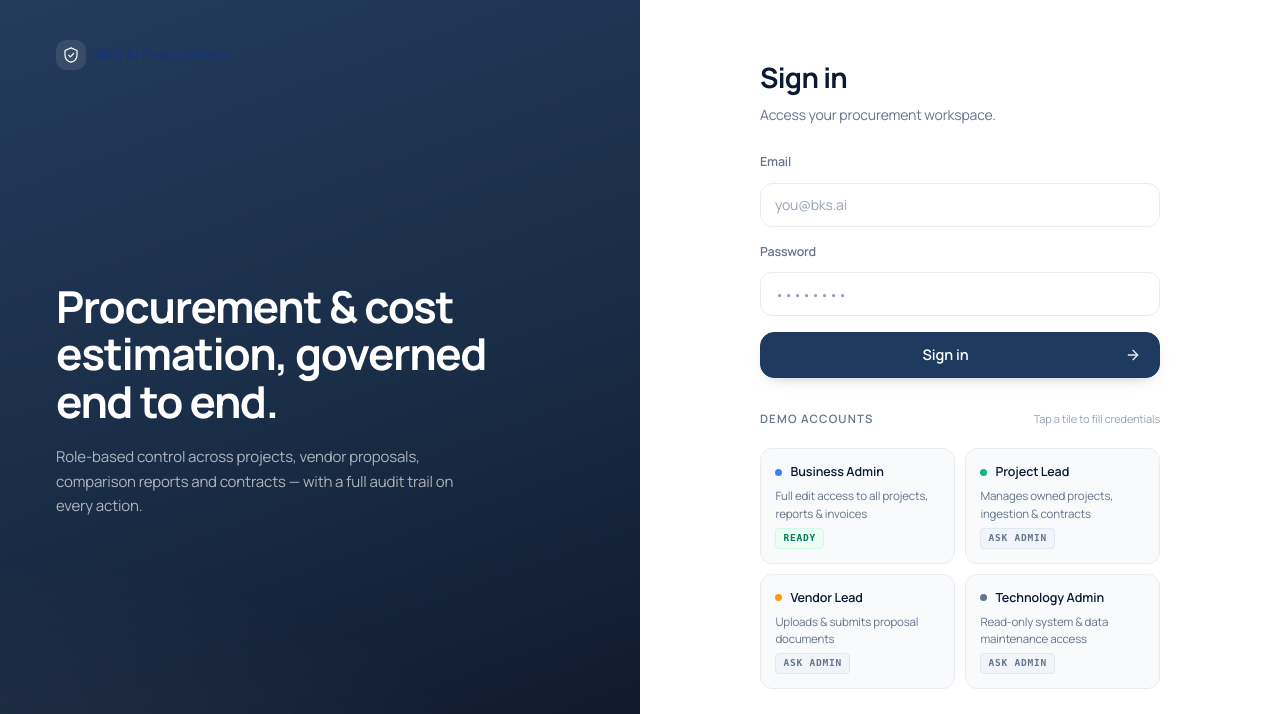
Test case: Auth › fills only the email for demo roles without published passwords
Click the button "Project Lead". click: (1062, 506)
box: [965,448,1160,564]
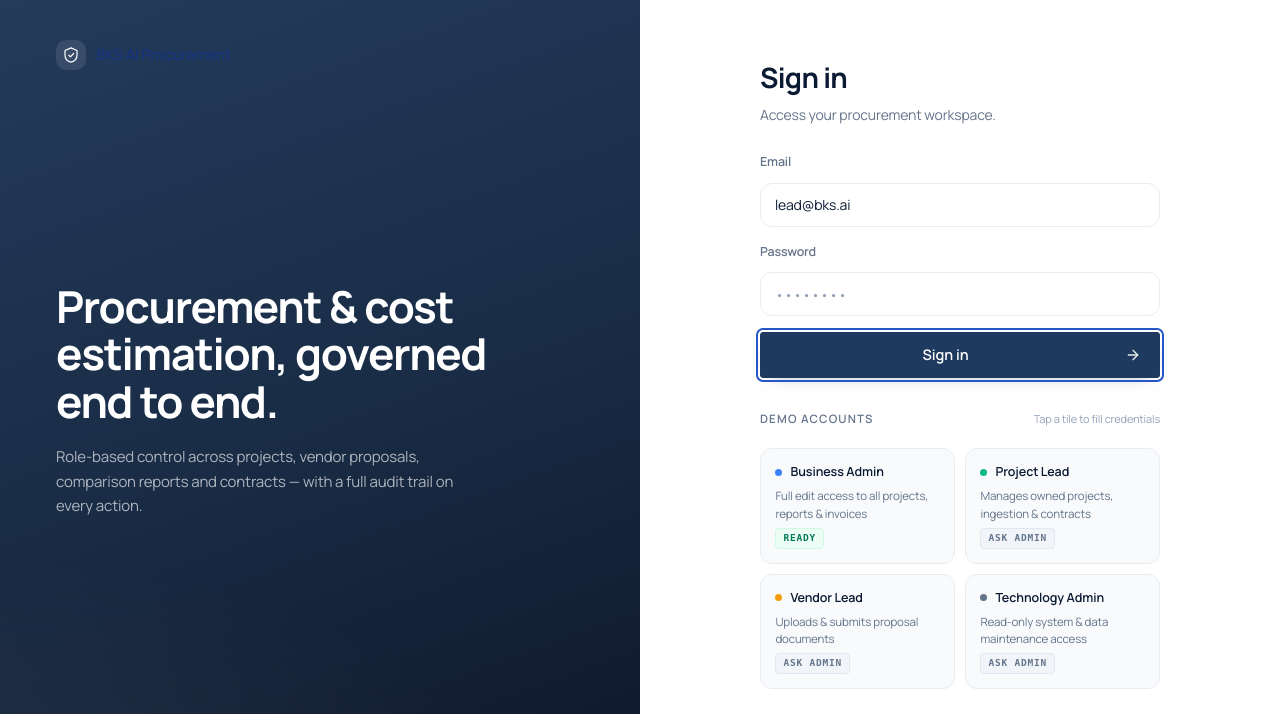
Check: the password field labelled "Password" is empty, box [760,272,1160,316]
Check: the field labelled "Email" holds "lead@bks.ai", box [760,182,1160,226]
